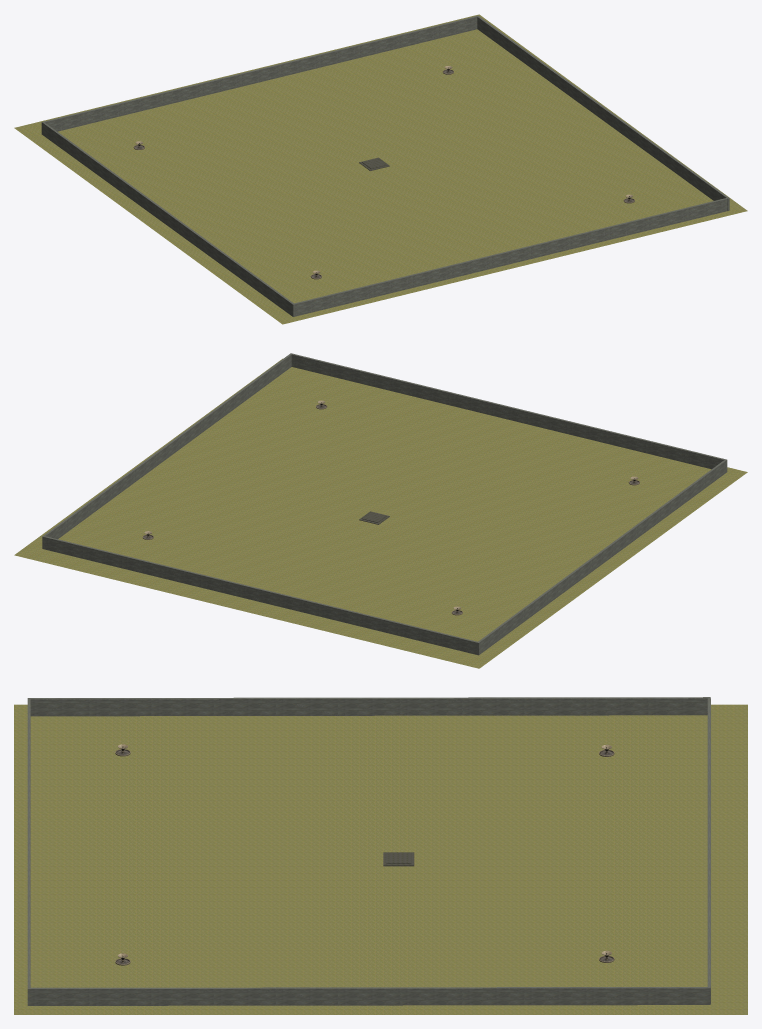
Rendered from jungle_scene.obj.
The picture shows the model from 3 angles, top to bottom: view 1: azimuth 30°, elevation 25°; view 2: azimuth 150°, elevation 25°; view 3: azimuth 270°, elevation 25°; orthographic projection. The views are drawn at different scales.
Parts seen in each view (by area): view 1: ground_Plane, wall_section.022_Cube.022; view 2: ground_Plane, wall_section.022_Cube.022; view 3: ground_Plane, wall_section.022_Cube.022.
Part boxes in pixels (<box>): ground_Plane: <box>14,14,747,324</box>; wall_section.022_Cube.022: <box>41,15,729,316</box>; ground_Plane: <box>14,358,747,668</box>; wall_section.022_Cube.022: <box>42,353,727,655</box>; ground_Plane: <box>14,704,747,1014</box>; wall_section.022_Cube.022: <box>27,697,710,1005</box>.
Size of the model in its own units: 236 by 6 by 236.
Materials: 50 (50 with a texture image).
